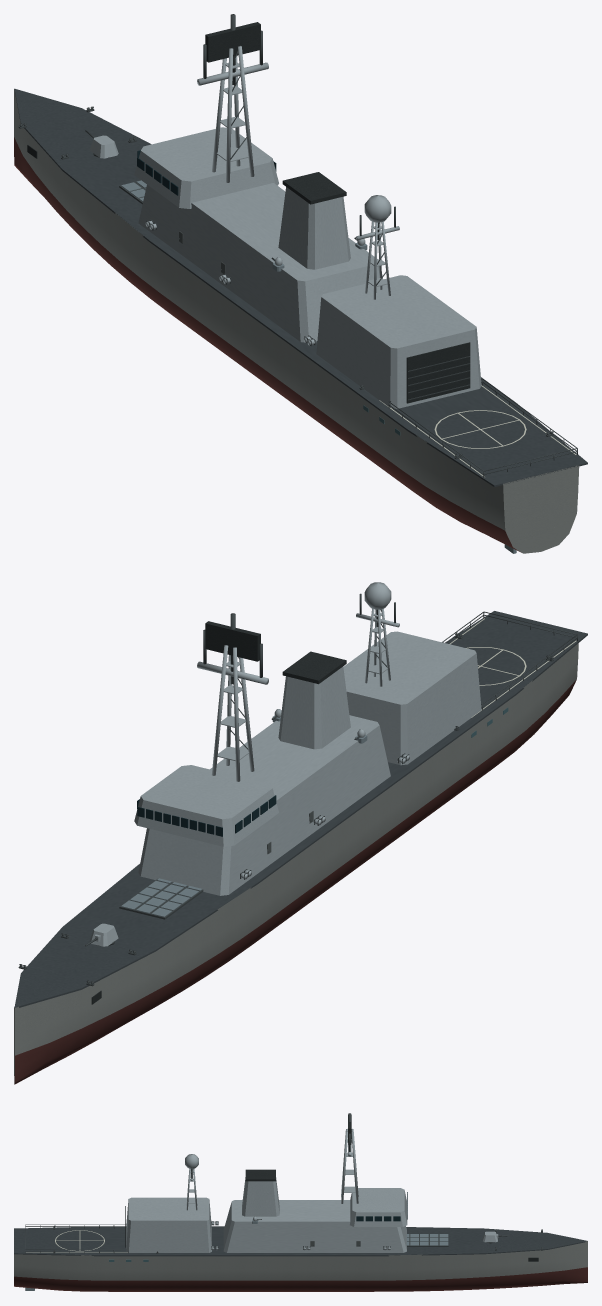
The model's file is wings_type054a_jiangkai_ii.glb.
3 renders of one model, top to bottom at view 1: azimuth 30°, elevation 25°; view 2: azimuth 150°, elevation 25°; view 3: azimuth 270°, elevation 25°, orthographic. The views are drawn at different scales.
Visible parts, largest first — view 1: static_hull_deck_superstructure; view 2: static_hull_deck_superstructure; view 3: static_hull_deck_superstructure.
Boxes of the visible parts, left/top/right/bottom form: static_hull_deck_superstructure: left=14, top=14, right=587, bottom=553; static_hull_deck_superstructure: left=14, top=582, right=587, bottom=1084; static_hull_deck_superstructure: left=14, top=1113, right=587, bottom=1291.
Size of the model in its own units: 16 by 44.52 by 134.
1 material, 1 textured.
